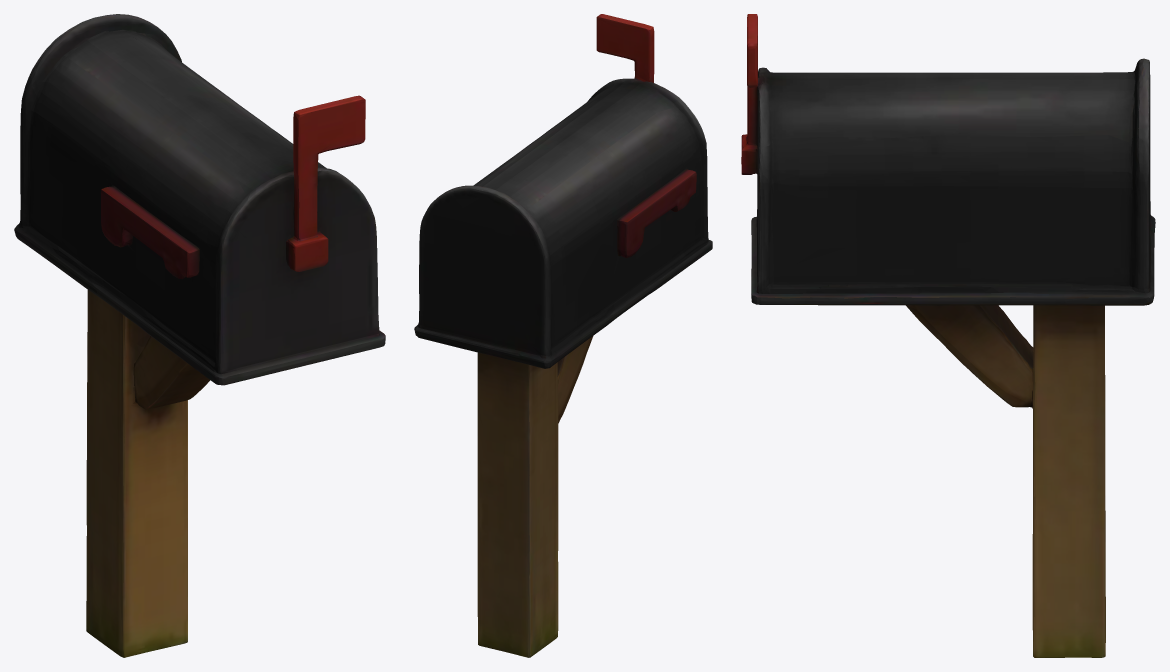
File: mailbox.glb
3 views of the same model, side by side, from view 1: azimuth 30°, elevation 25°; view 2: azimuth 150°, elevation 25°; view 3: azimuth 270°, elevation 25° (orthographic). The views are drawn at different scales.
Visible parts, largest first — view 1: world; view 2: world; view 3: world.
Part boxes in pixels (bbox=[...]): world: bbox=[14, 14, 385, 657]; world: bbox=[414, 14, 712, 657]; world: bbox=[741, 14, 1155, 657].
Size of the model in its own units: 0.2843 by 0.9995 by 0.5971.
Materials: 1 (1 with a texture image).
